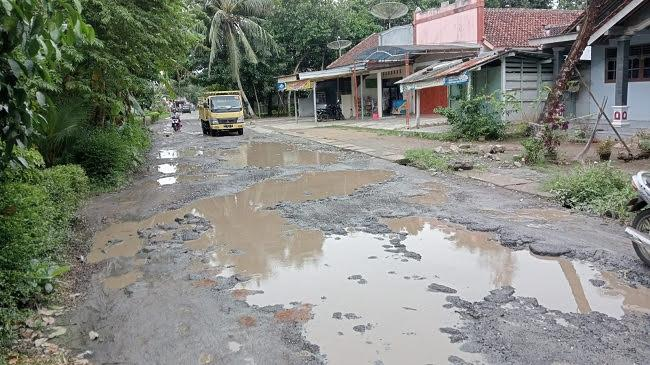Pothole: (87, 163, 650, 365), (196, 136, 346, 169), (417, 136, 509, 176), (155, 134, 187, 191)
